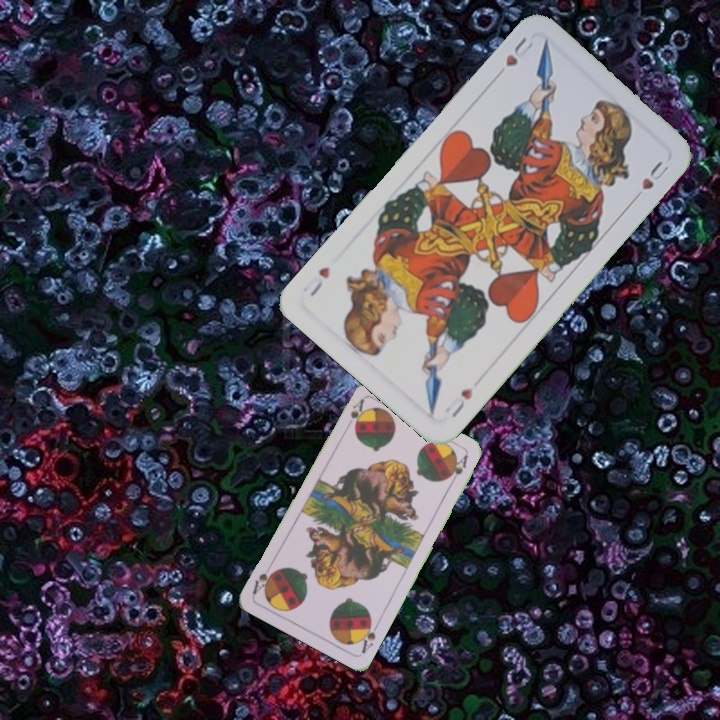HU: (501, 33, 536, 69), (447, 383, 476, 420)
SA: (354, 615, 382, 657), (341, 395, 366, 433)
